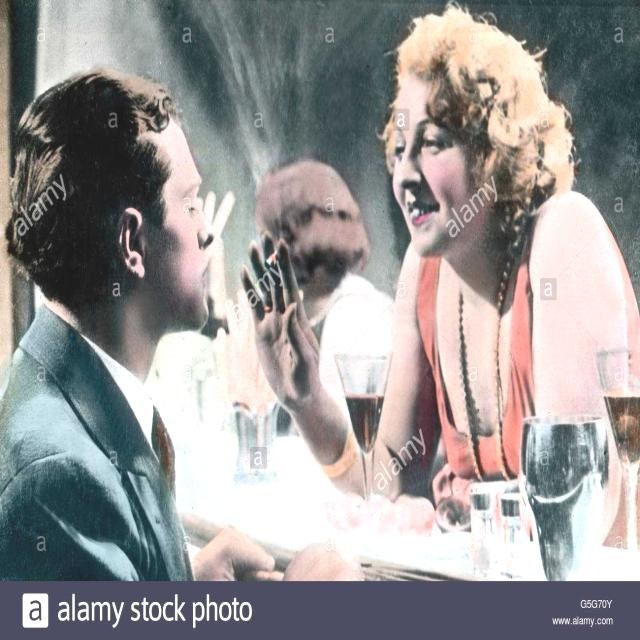Smooking: (261, 236, 279, 275)
